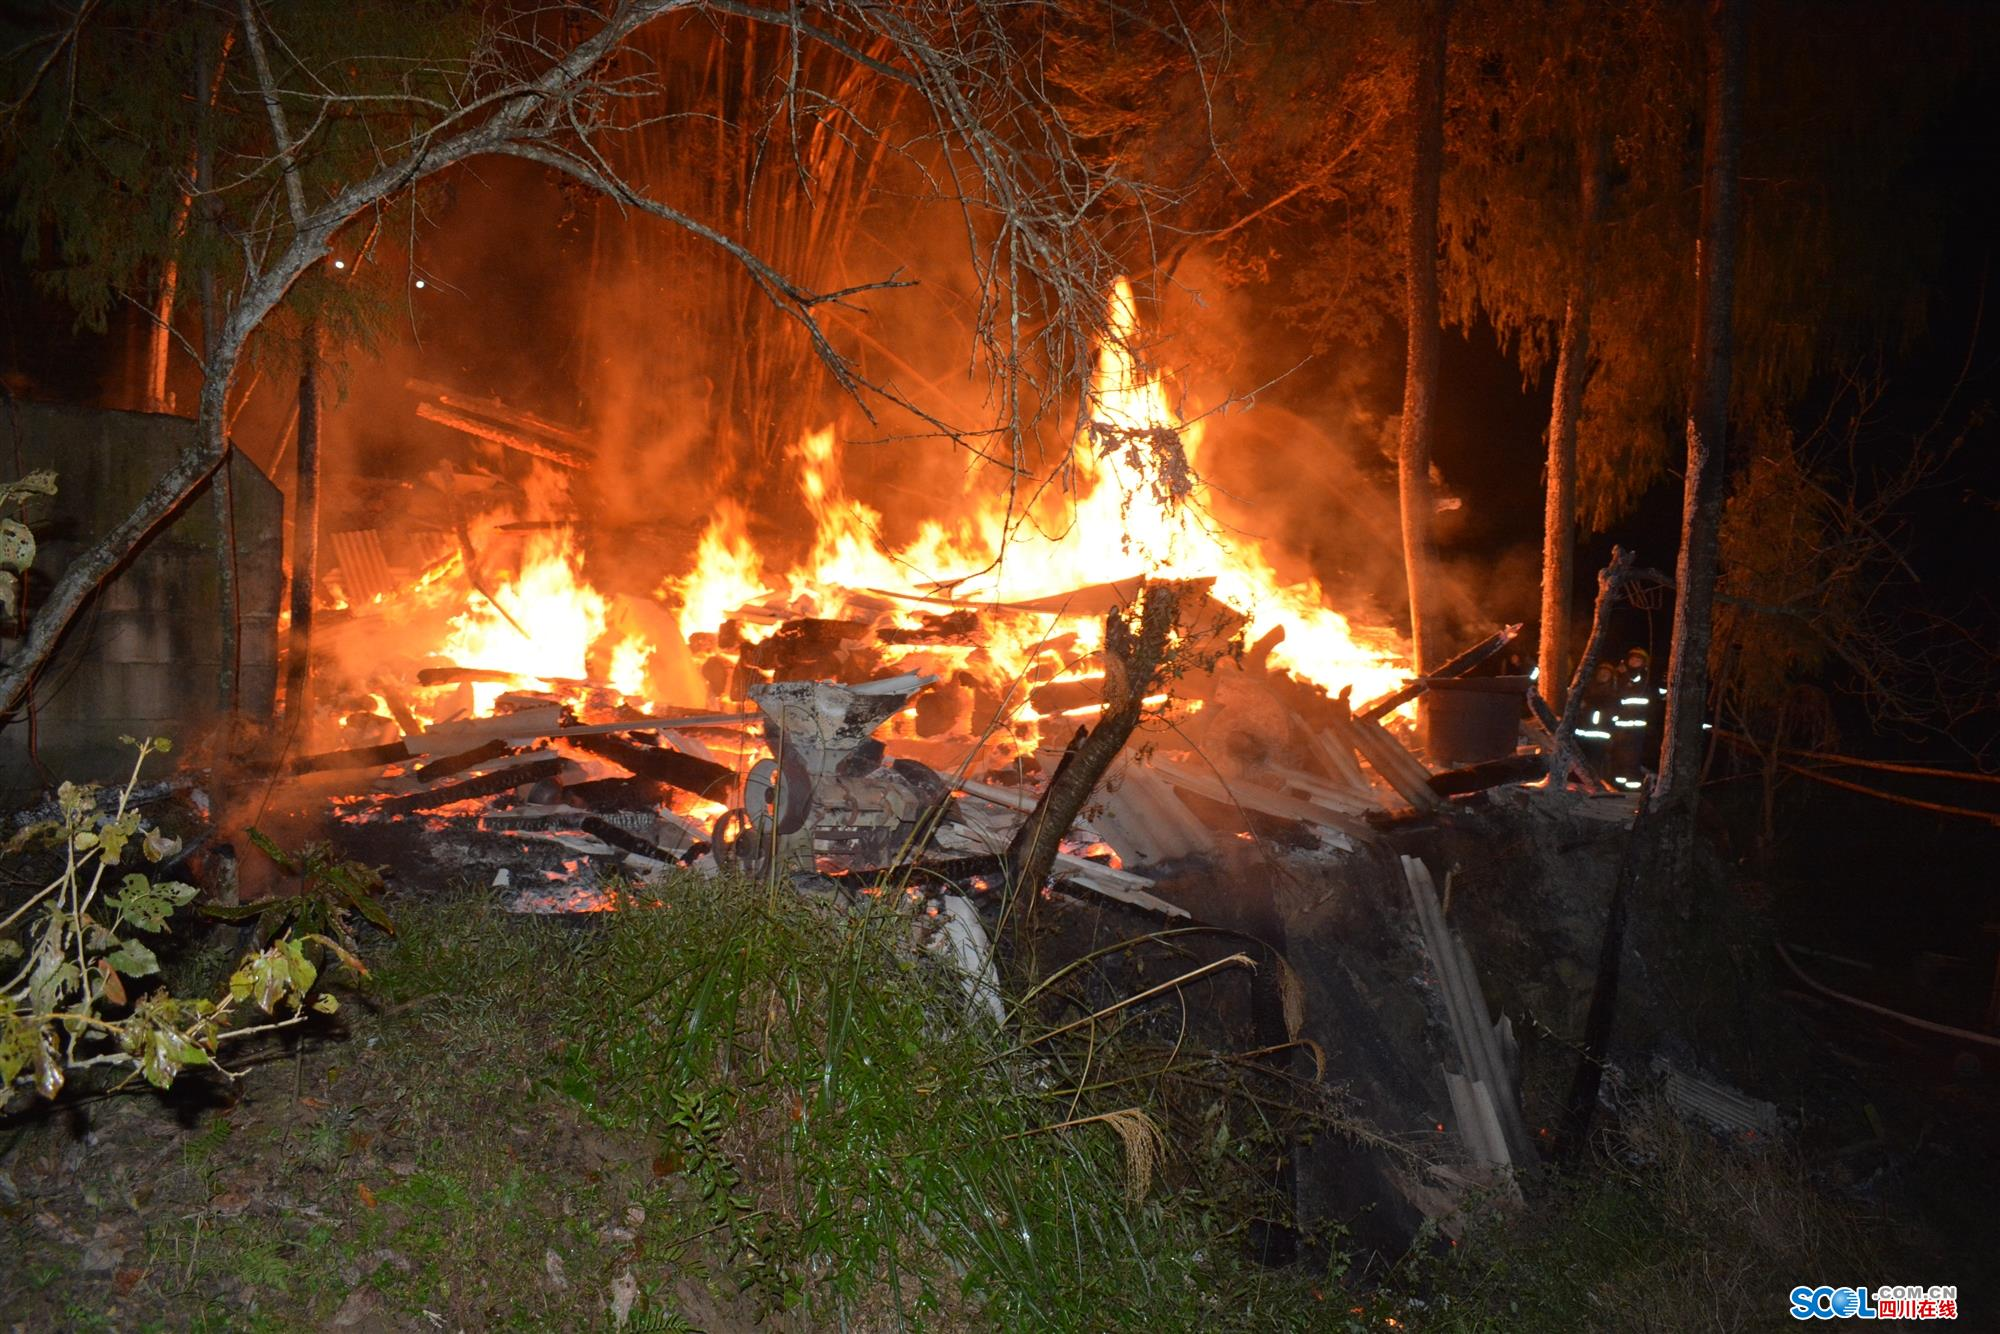fire: (701, 281, 1472, 735), (432, 515, 685, 724)
